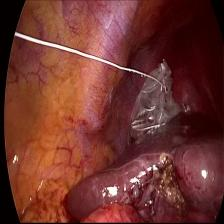Specimen Bag: (121, 35, 194, 161)
